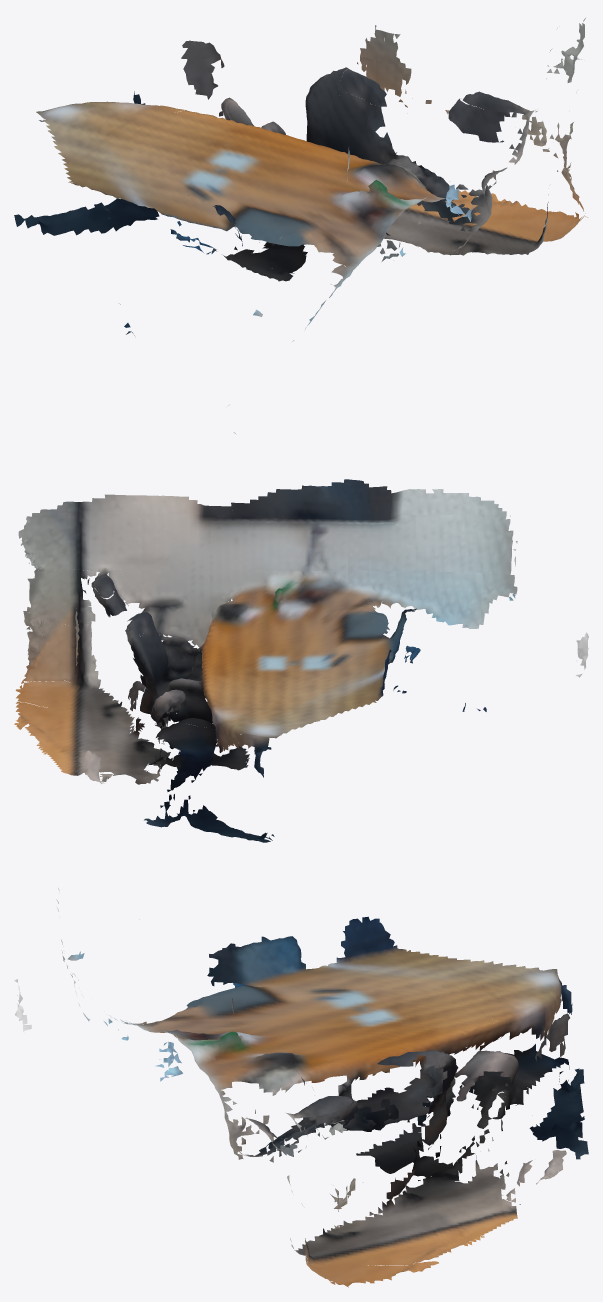
3 renders of one model, top to bottom at view 1: azimuth 30°, elevation 25°; view 2: azimuth 150°, elevation 25°; view 3: azimuth 270°, elevation 25°, orthographic. The views are drawn at different scales.
Parts seen in each view (by area): view 1: MeshAnchor-471773412471660205; view 2: MeshAnchor-471773412471660205; view 3: MeshAnchor-471773412471660205.
Boxes of the visible parts, x1=… form: MeshAnchor-471773412471660205: x1=14, y1=18, x2=587, y2=434; MeshAnchor-471773412471660205: x1=14, y1=479, x2=588, y2=842; MeshAnchor-471773412471660205: x1=14, y1=888, x2=588, y2=1287.
Size of the model in its own units: 3.23 by 1.53 by 3.22.
